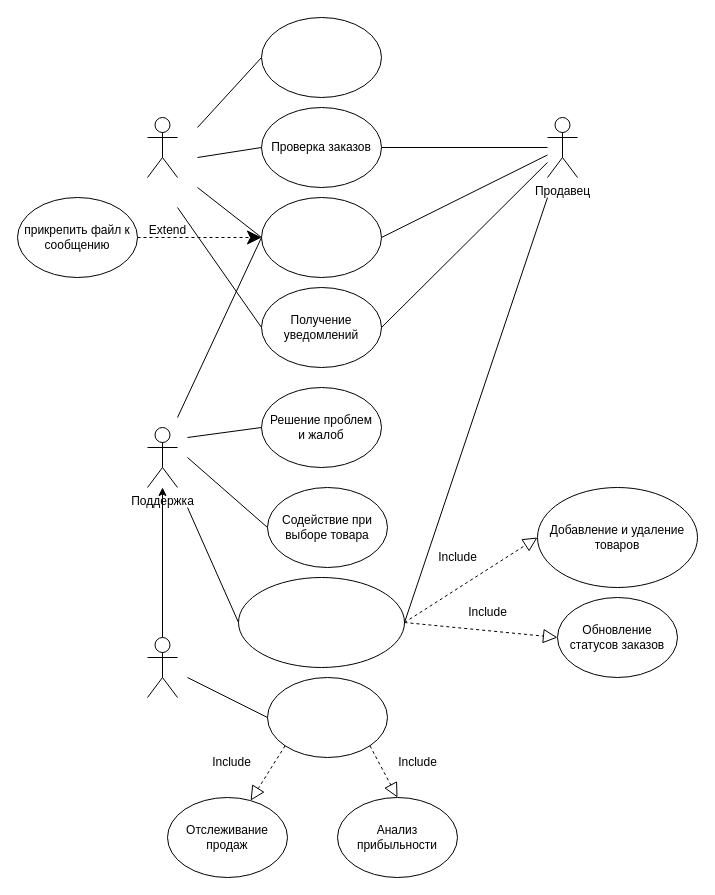
This 715x895 diagram has some shape labels left out. The shapes that lost their labels are listed below. From the top down, each one's box as (x1, y1, x2, y2) in pixels, then its label:
(260, 16, 382, 98): Выбор и покупка товаров
(146, 116, 178, 178): Покупатель
(260, 196, 382, 278): Отправление сообщений
(238, 576, 404, 668): Управление заказами и товарами
(146, 636, 178, 698): Администратор
(266, 676, 388, 758): Мониторинг и анализ
